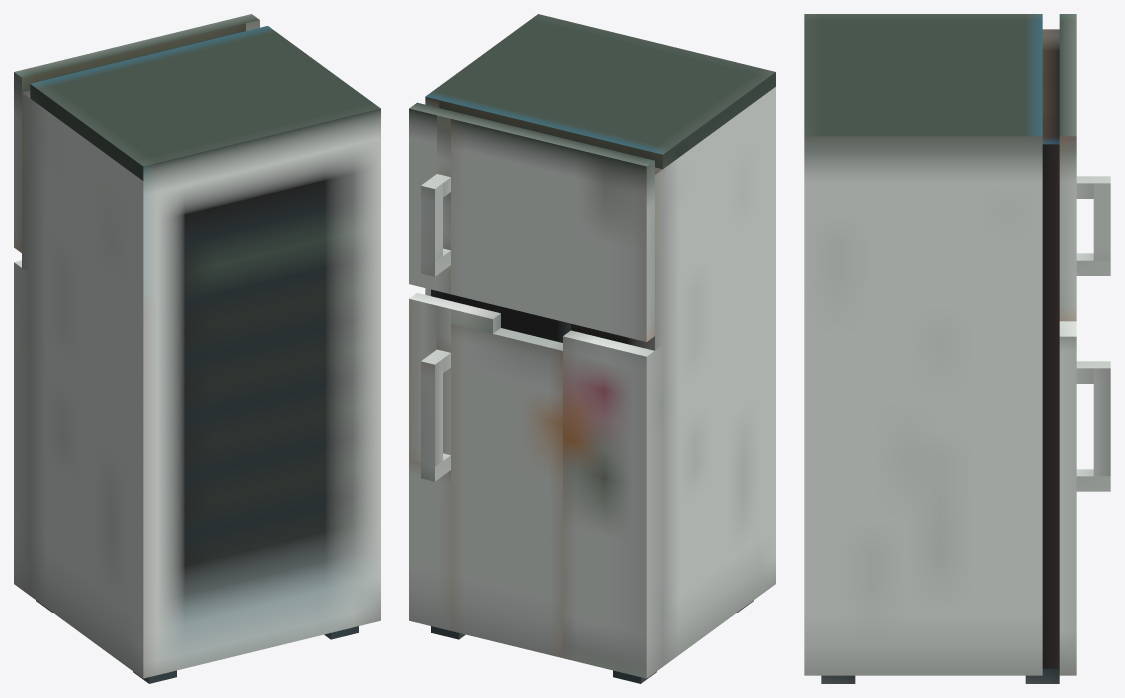
The model's file is Fridge_00.fbx.
The picture shows the model from 3 angles, left to right: view 1: azimuth 30°, elevation 25°; view 2: azimuth 150°, elevation 25°; view 3: azimuth 270°, elevation 25°; orthographic projection. The views are drawn at different scales.
Visible parts, largest first — view 1: Fridge_00; view 2: Fridge_00; view 3: Fridge_00.
Boxes of the visible parts, x1=… form: Fridge_00: x1=14, y1=14, x2=380, y2=683; Fridge_00: x1=409, y1=14, x2=775, y2=683; Fridge_00: x1=804, y1=14, x2=1110, y2=683.
Bounding box in the file's own units: 85 × 90 × 180.
1 material, 1 textured.
